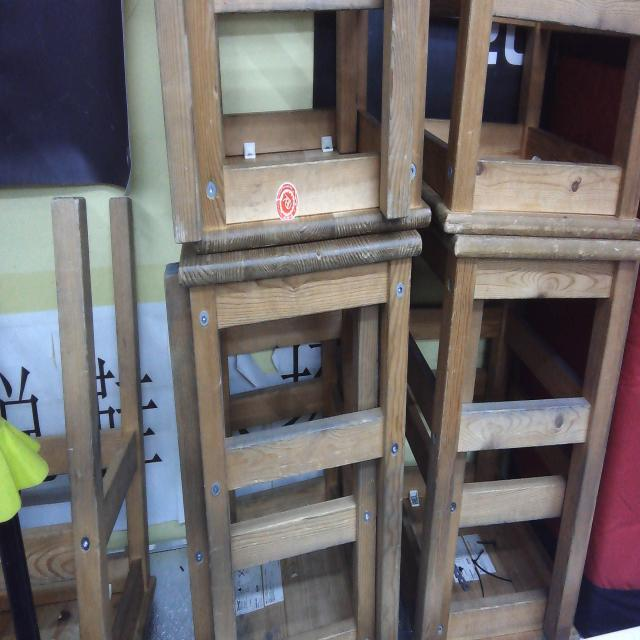Yellow-Stake-Head: (0, 415, 49, 523)
